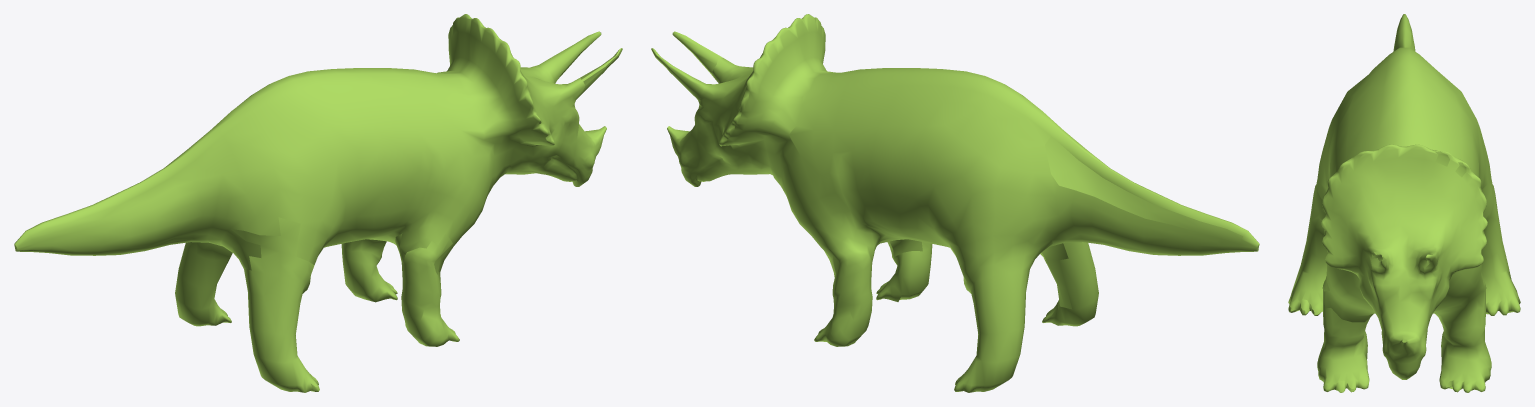
File: triceratops1.obj
3 views of the same model, side by side, from view 1: azimuth 30°, elevation 25°; view 2: azimuth 150°, elevation 25°; view 3: azimuth 270°, elevation 25° (orthographic). The views are drawn at different scales.
Visible parts, largest first — view 1: triceratops; view 2: triceratops; view 3: triceratops.
Boxes of the visible parts, x1,y1,x2,y2 form: triceratops: (14,14,622,392); triceratops: (651,14,1259,392); triceratops: (1288,14,1520,392).
Size of the model in its own units: 17.72 by 7.76 by 5.86.
